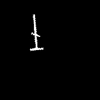double_crochet: (30, 15, 42, 49)
